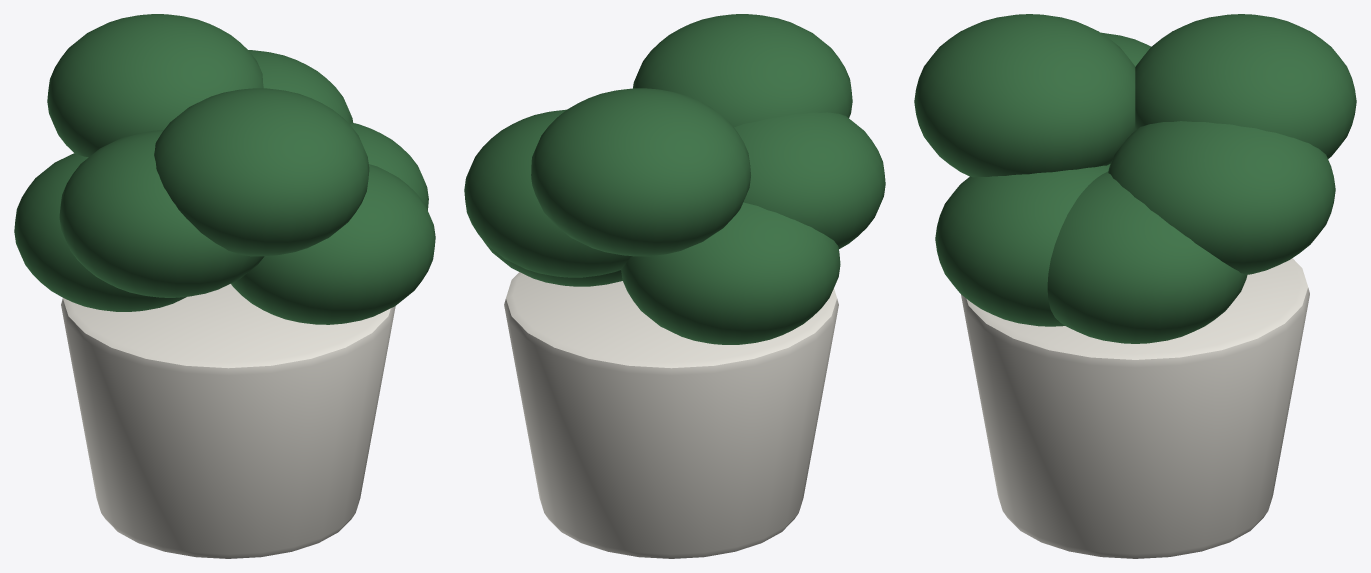
File: plant_small.glb
3 renders of one model, left to right at view 1: azimuth 30°, elevation 25°; view 2: azimuth 150°, elevation 25°; view 3: azimuth 270°, elevation 25°, orthographic. The views are drawn at different scales.
Parts seen in each view (by area): view 1: pot, leaf5, leaf2, leaf4, leaf6, leaf3, leaf1, leaf0; view 2: pot, leaf2, leaf3, leaf5, leaf4, leaf1, leaf0; view 3: pot, leaf5, leaf1, leaf2, leaf0, leaf6, leaf4.
Part boxes in pixels (left/top/right/bottom): pot: left=61, top=284, right=395, bottom=558; leaf5: left=154, top=88, right=369, bottom=256; leaf2: left=47, top=14, right=263, bottom=157; leaf4: left=59, top=130, right=264, bottom=297; leaf6: left=231, top=164, right=435, bottom=324; leaf3: left=14, top=153, right=186, bottom=311; leaf1: left=248, top=50, right=353, bottom=124; leaf0: left=350, top=123, right=428, bottom=210; pot: left=504, top=272, right=838, bottom=558; leaf2: left=531, top=88, right=750, bottom=256; leaf3: left=621, top=202, right=840, bottom=344; leaf5: left=633, top=14, right=852, bottom=127; leaf4: left=734, top=112, right=885, bottom=248; leaf1: left=464, top=109, right=631, bottom=277; leaf0: left=484, top=242, right=622, bottom=286; pot: left=961, top=258, right=1309, bottom=558; leaf5: left=914, top=14, right=1135, bottom=177; leaf1: left=1108, top=121, right=1335, bottom=274; leaf2: left=1135, top=14, right=1356, bottom=158; leaf0: left=1047, top=171, right=1247, bottom=343; leaf6: left=935, top=164, right=1110, bottom=326; leaf4: left=1101, top=32, right=1150, bottom=66.
Bounding box in the file's own units: 0.3221 × 0.3795 × 0.326.
